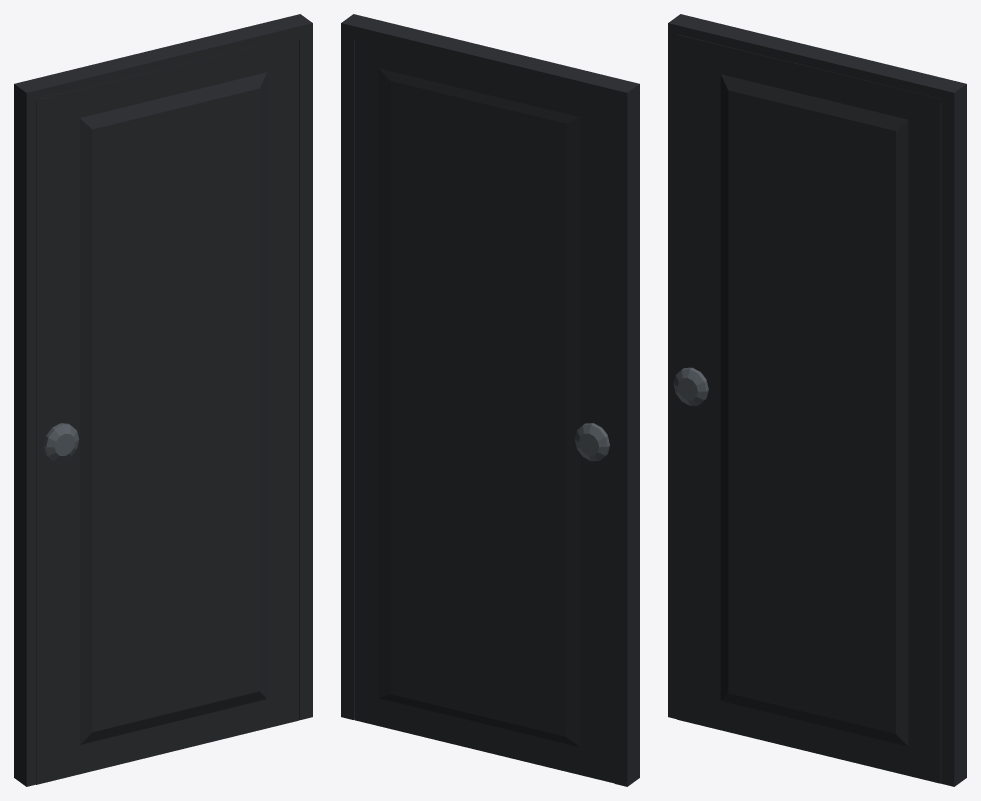
File: Door.fbx
3 renders of one model, left to right at view 1: azimuth 30°, elevation 25°; view 2: azimuth 150°, elevation 25°; view 3: azimuth 330°, elevation 25°, orthographic.
Parts seen in each view (by area): view 1: Door_05_A; view 2: Door_05_A; view 3: Door_05_A.
Boxes of the visible parts, left/top/right/bottom form: Door_05_A: left=14, top=14, right=312, bottom=786; Door_05_A: left=341, top=14, right=639, bottom=786; Door_05_A: left=668, top=14, right=966, bottom=786.
Bounding box in the file's own units: 58.05 × 134 × 10.88.
